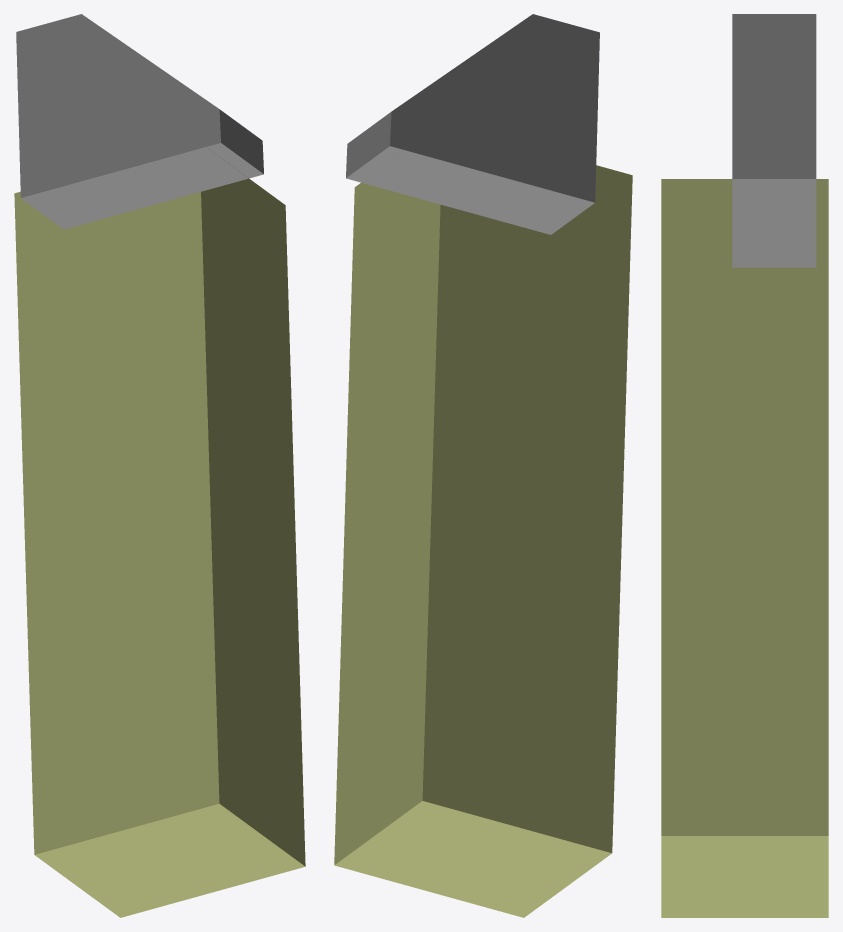
3 views of the same model, side by side, from view 1: azimuth 30°, elevation 25°; view 2: azimuth 150°, elevation 25°; view 3: azimuth 270°, elevation 25° (orthographic). The views are drawn at different scales.
Visible parts, largest first — view 1: 0_2_0_1_1_2_2_1_1; view 2: 0_2_0_1_1_2_2_1_1; view 3: 0_2_0_1_1_2_2_1_1.
Part boxes in pixels (<box>): 0_2_0_1_1_2_2_1_1: <box>14,14,305,917</box>; 0_2_0_1_1_2_2_1_1: <box>334,14,632,917</box>; 0_2_0_1_1_2_2_1_1: <box>661,14,828,917</box>.
Size of the model in its own units: 8.43 by 32.11 by 6.
